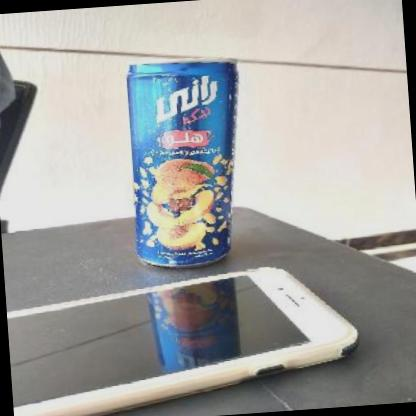alumunium_can: (123, 52, 255, 272)
